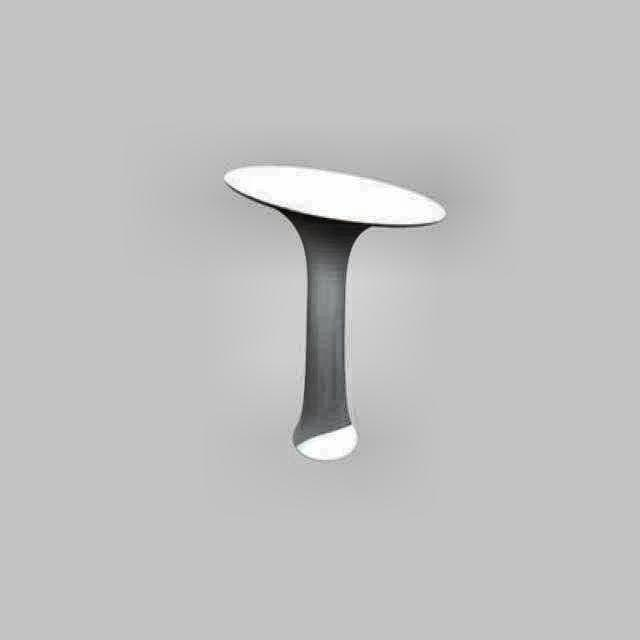mesa: (224, 160, 446, 462)
